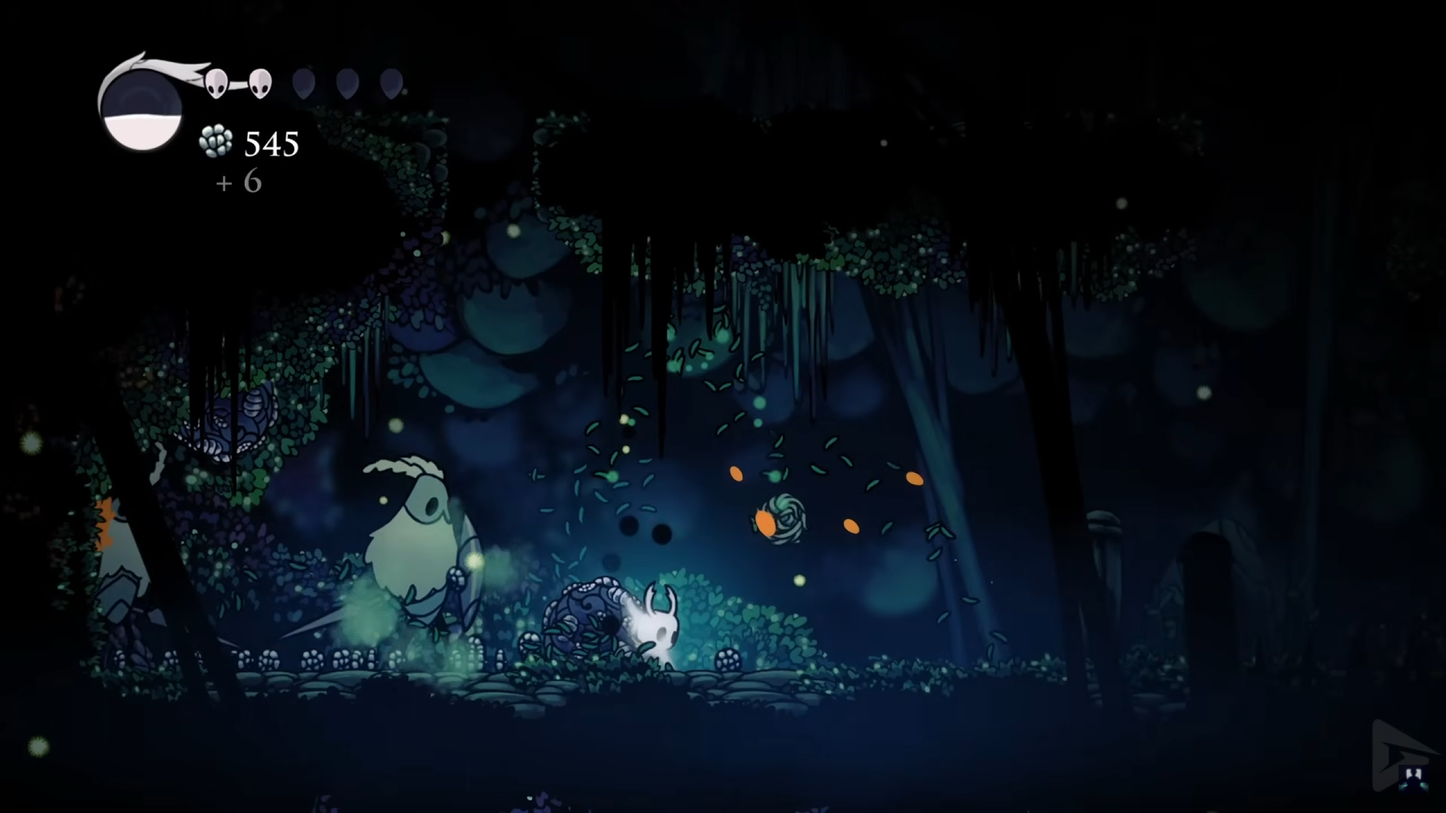HK: (621, 580, 683, 671)
